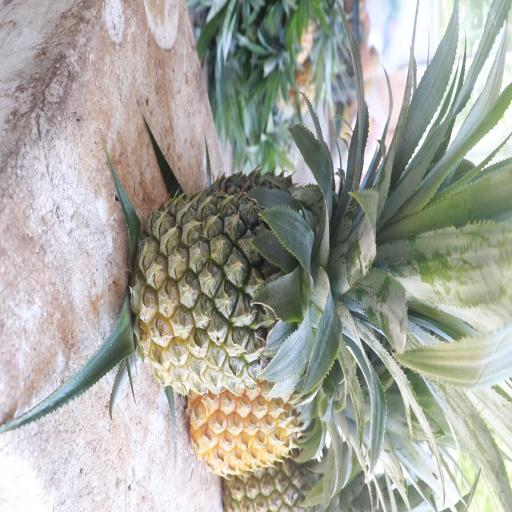------------------------------: (140, 186, 345, 388)
Pineapple - v8 v1: (189, 374, 319, 473)
